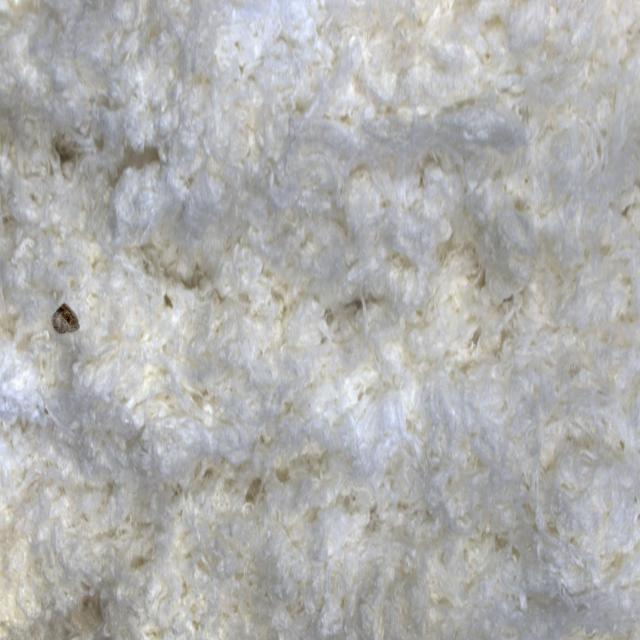dust: (27, 259, 109, 372)
